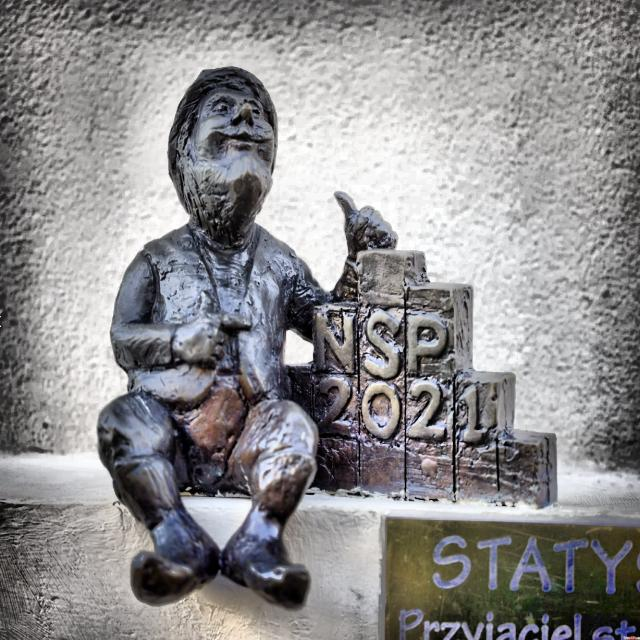Statyslaw: (98, 68, 556, 607)
